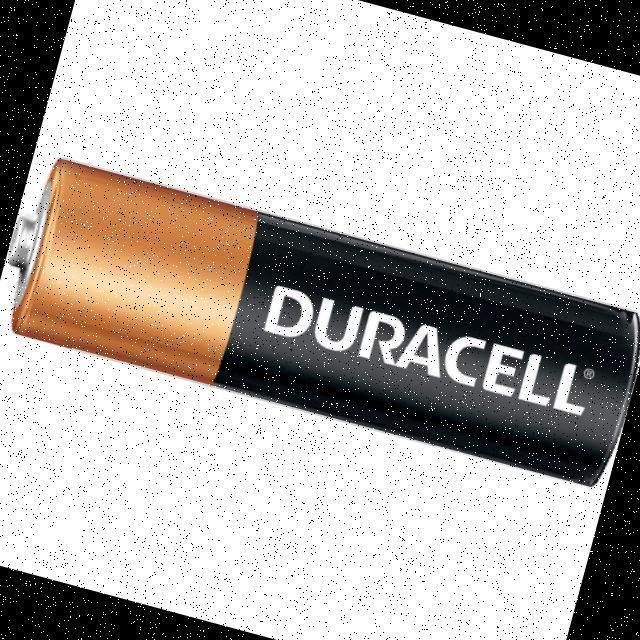AA: (9, 155, 638, 488)
